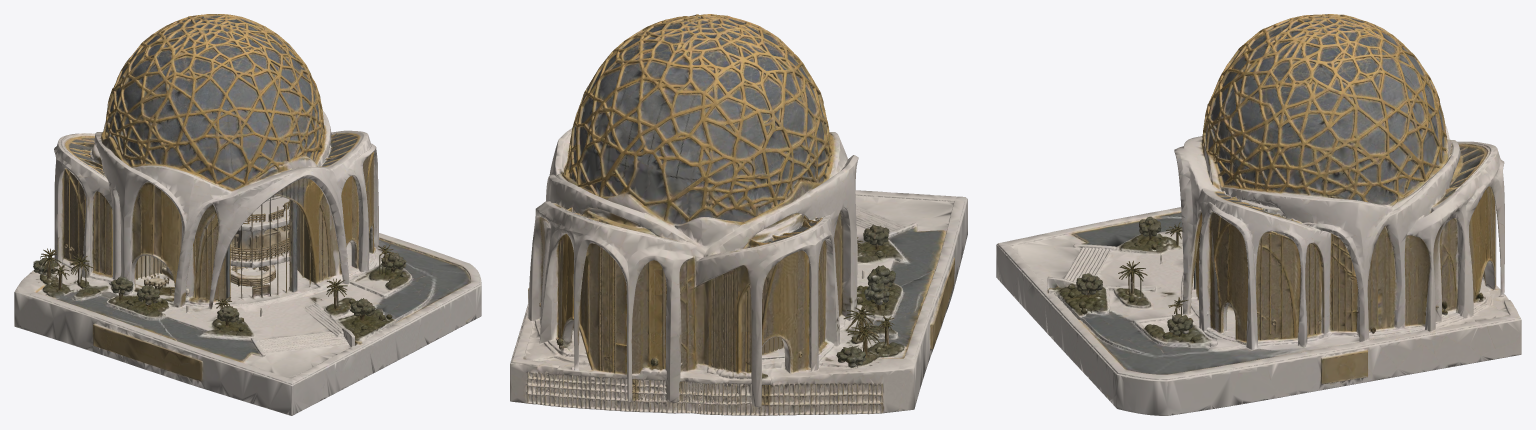
The model's file is library.glb.
3 renders of one model, left to right at view 1: azimuth 30°, elevation 25°; view 2: azimuth 150°, elevation 25°; view 3: azimuth 270°, elevation 25°, orthographic. The views are drawn at different scales.
Size of the model in its own units: 38.03 by 25.7 by 42.
1 material, 1 textured.
